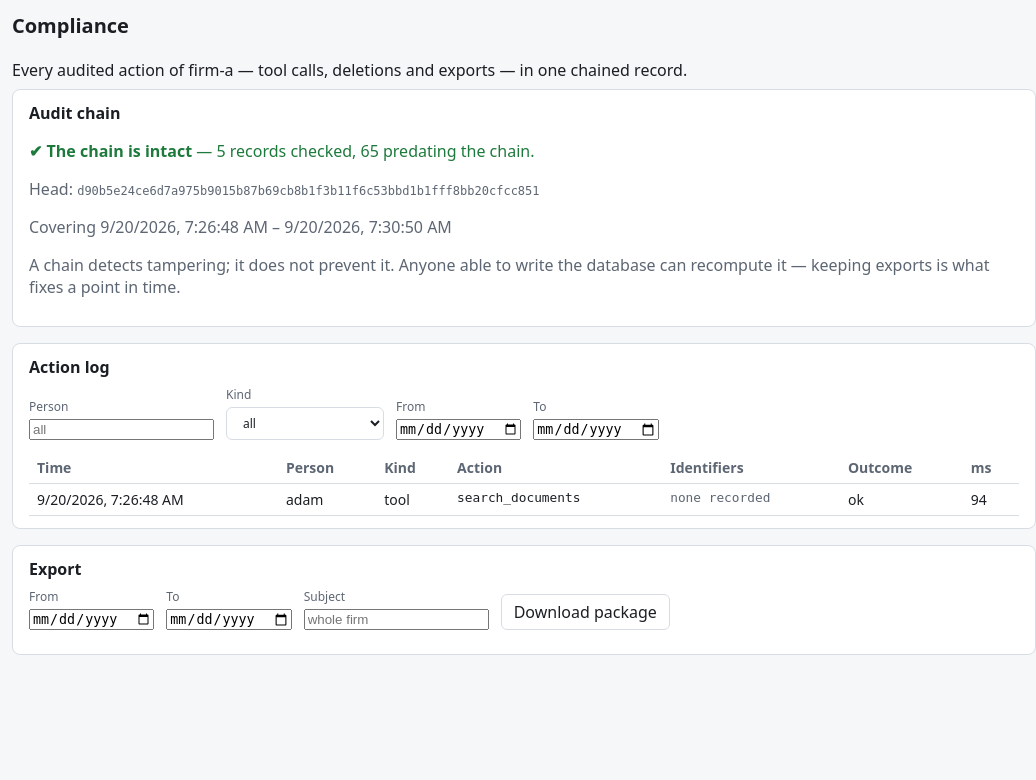
Test case: CompliancePage › exports the chosen range and shows the manifest afterwards
Expected: the element "Export" is shown, [12,545,1035,655]
In the date field named "Export from": (92, 620) [29,609,154,630], type "2026-09-01"
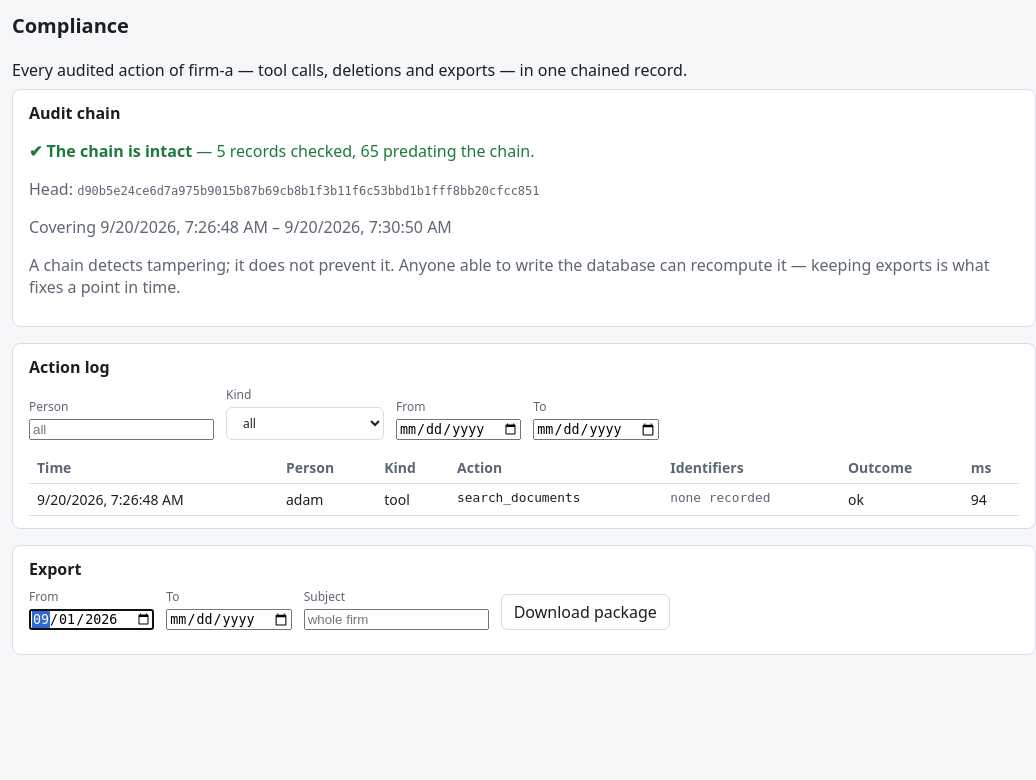
In the date field named "Export to": (229, 620) [166,609,292,630], type "2026-09-30"
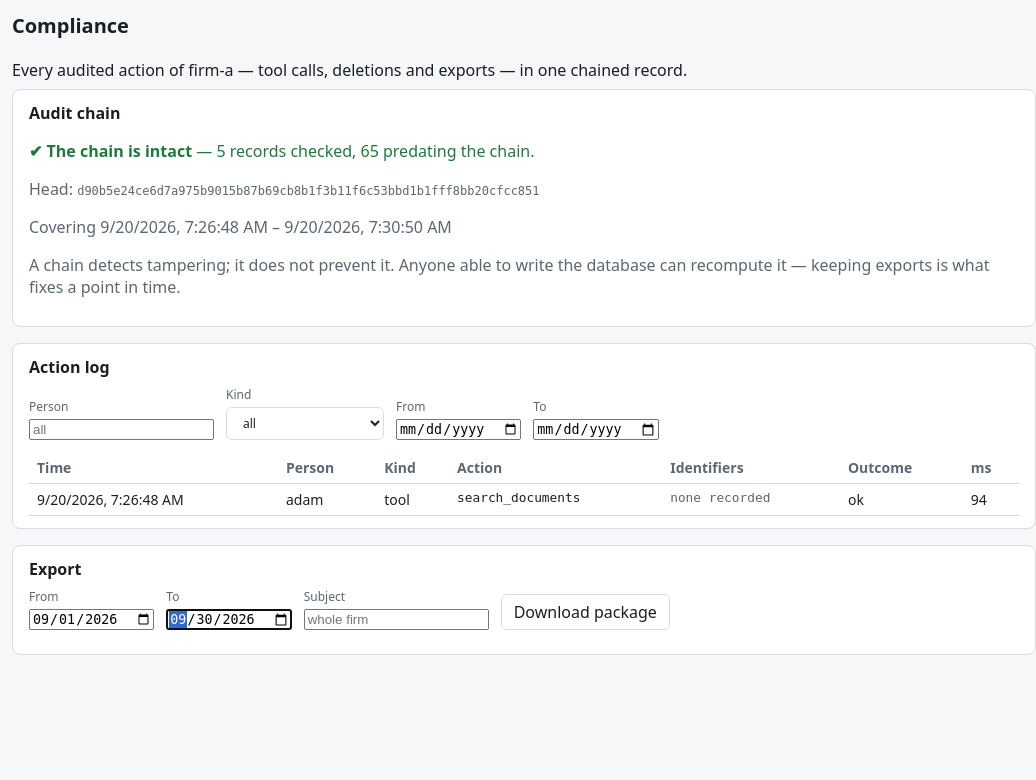
Click the button "Download package": (585, 612) [501,594,670,630]
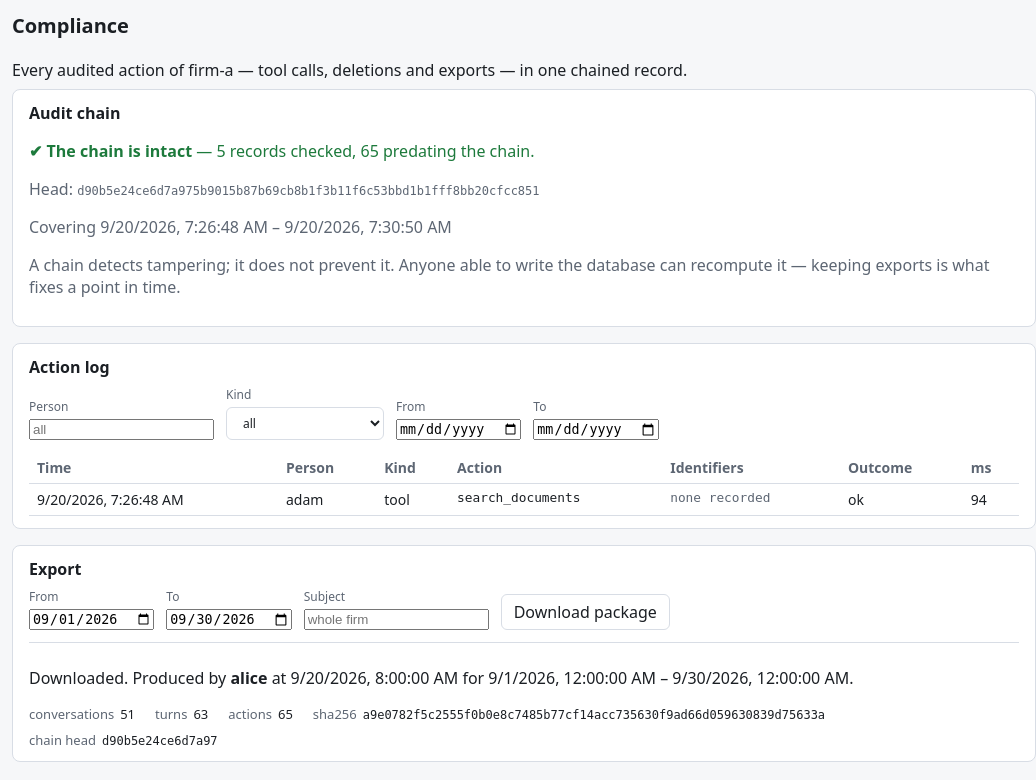
Result: the element "Export" shows "Produced by alice" at [12,545,1035,762]
Result: the element "Export" shows "a9e0782f5c2555f0b0e8c7485b77cf14acc735630f9ad66d059630839d75633a" at [363,708,825,722]
Result: the element "Export" shows "d90b5e24ce6d7a97" at [102,734,218,748]
